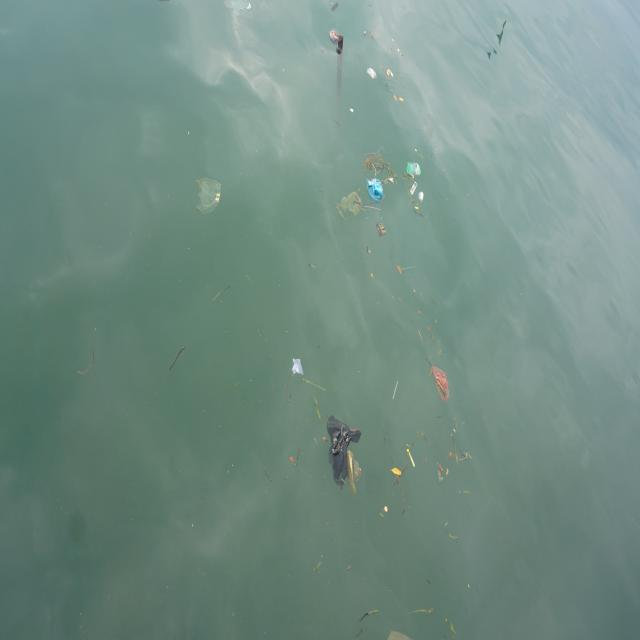Bungkus Makanan: (406, 160, 423, 179)
Bungkus Minuman: (377, 221, 387, 240)
Kantong Plastik: (327, 412, 361, 497), (194, 171, 229, 219), (430, 361, 452, 410), (341, 191, 364, 219), (368, 173, 385, 207), (330, 26, 341, 47)
